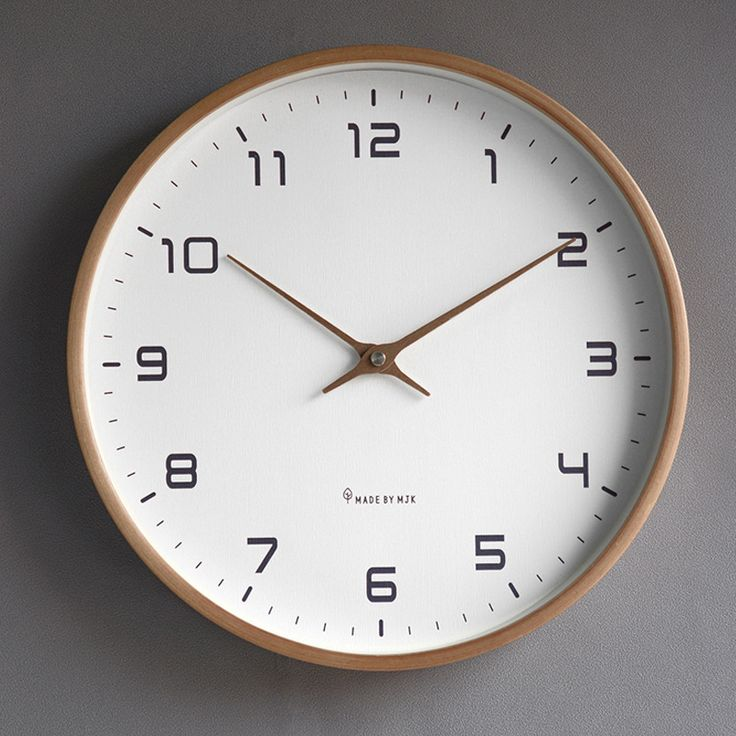clock: (46, 18, 718, 705)
